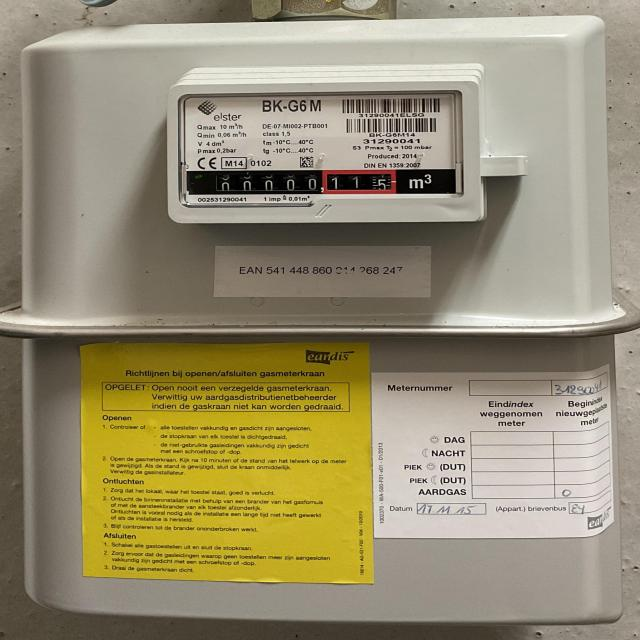gaz_meter: (178, 95, 460, 201)
indication: (212, 171, 396, 196)
